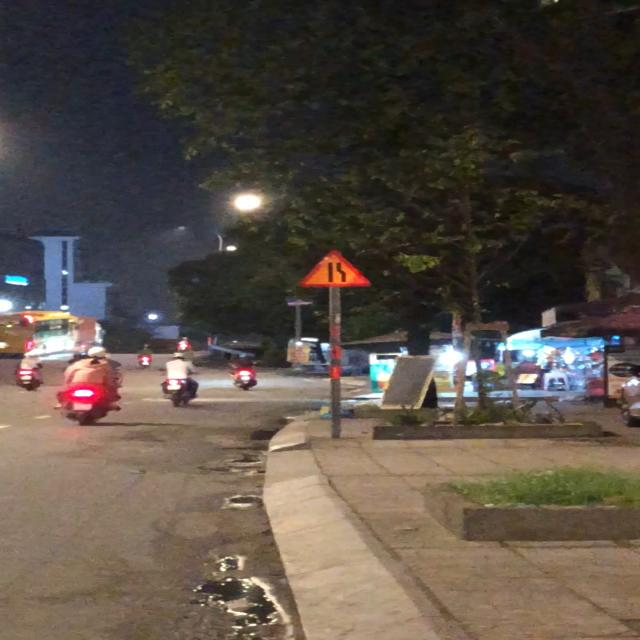Bien bao duong bi thu hep: (296, 248, 375, 289)
